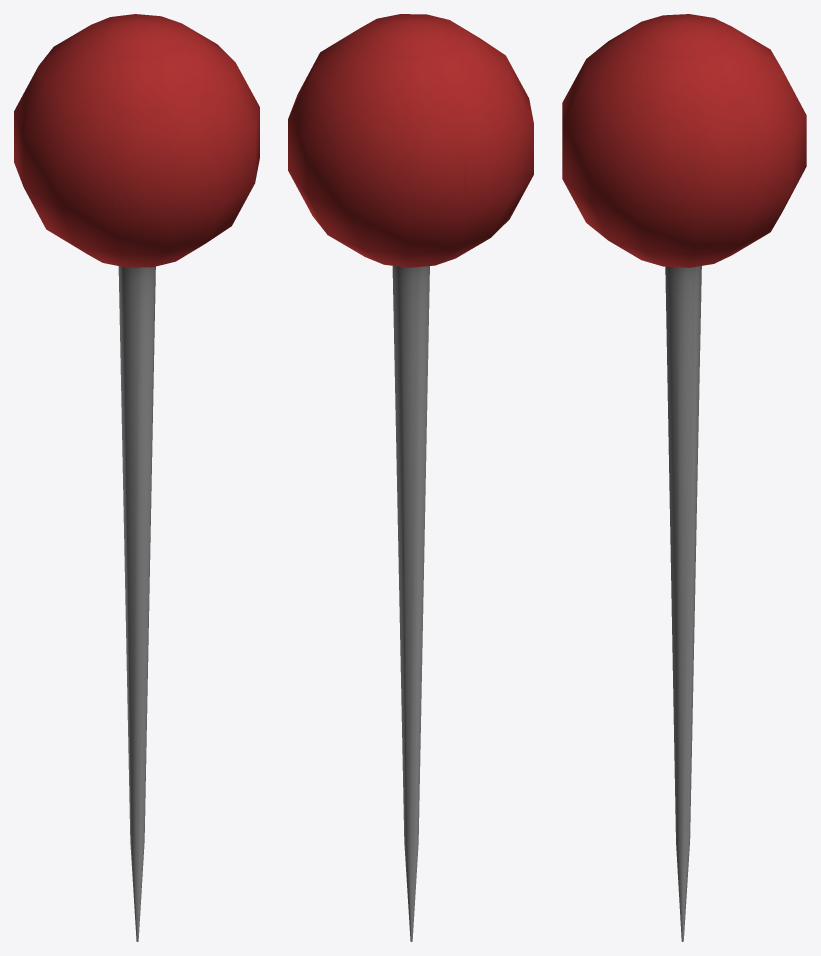
File: pin.glb
3 views of the same model, side by side, from view 1: azimuth 30°, elevation 25°; view 2: azimuth 150°, elevation 25°; view 3: azimuth 270°, elevation 25° (orthographic).
Visible parts, largest first — view 1: pin; view 2: pin; view 3: pin.
Part boxes in pixels (box(x1,y1,x2,y2)): pin: box(14, 14, 259, 941); pin: box(288, 14, 533, 941); pin: box(562, 14, 806, 941).
Bounding box in the file's own units: 0.4392 × 1.8 × 0.436.
1 material, 1 textured.
